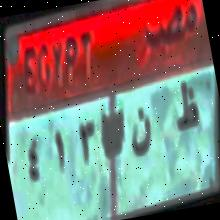1: (48, 121, 75, 180)
3: (69, 112, 108, 175)
4: (17, 132, 51, 196)
Thaa: (170, 78, 208, 142)
noon: (124, 100, 164, 178)
